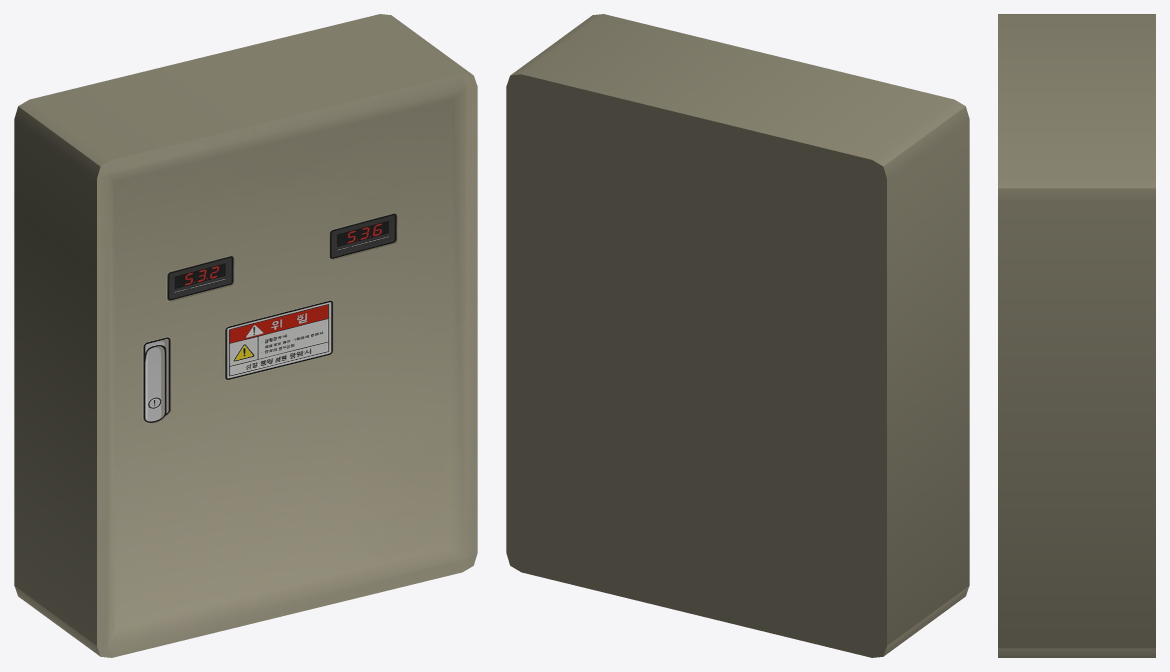
3 views of the same model, side by side, from view 1: azimuth 30°, elevation 25°; view 2: azimuth 150°, elevation 25°; view 3: azimuth 270°, elevation 25° (orthographic). The views are drawn at different scales.
Parts seen in each view (by area): view 1: RM1-DH05W040D015; view 2: RM1-DH05W040D015; view 3: RM1-DH05W040D015.
Part boxes in pixels (<box>): RM1-DH05W040D015: <box>14,14,477,657</box>; RM1-DH05W040D015: <box>506,14,969,657</box>; RM1-DH05W040D015: <box>998,14,1155,657</box>.
Bounding box in the file's own units: 0.4 × 0.5 × 0.15.
2 materials, 1 textured.
